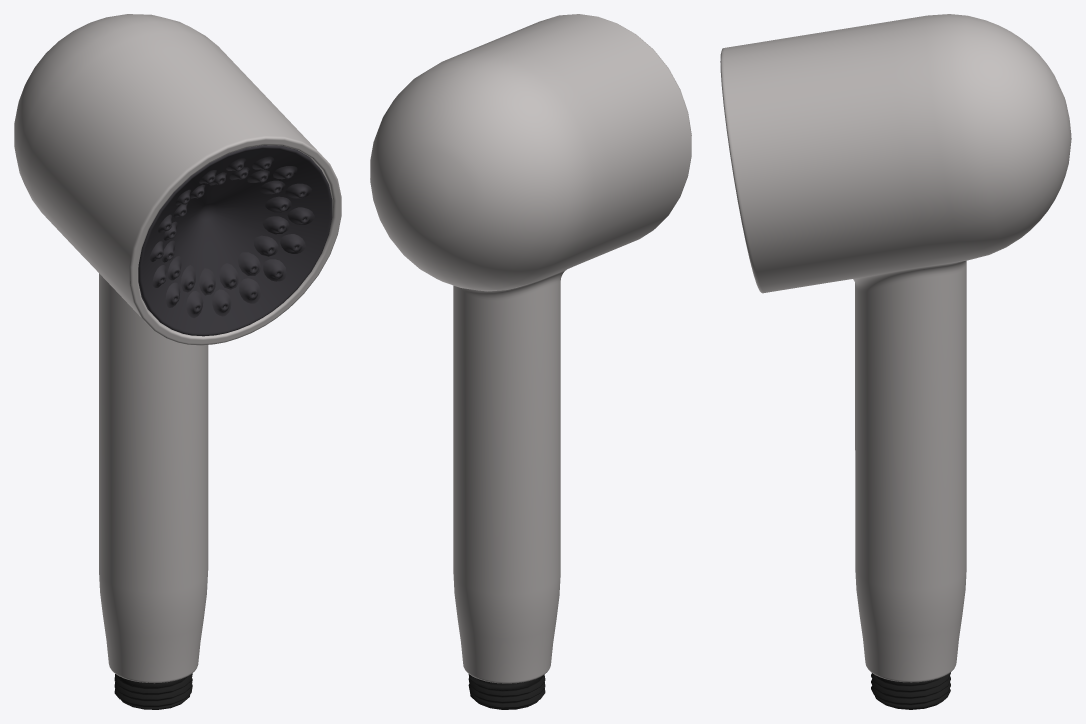
File: 26286_0_alpha_02.glb
The picture shows the model from 3 angles, left to right: view 1: azimuth 30°, elevation 25°; view 2: azimuth 150°, elevation 25°; view 3: azimuth 270°, elevation 25°; orthographic projection. The views are drawn at different scales.
Parts seen in each view (by area): view 1: 26286; view 2: 26286; view 3: 26286.
Boxes of the visible parts, x1=… form: 26286: x1=14, y1=14, x2=341, y2=709; 26286: x1=370, y1=14, x2=691, y2=709; 26286: x1=720, y1=14, x2=1071, y2=709.
Size of the model in its own units: 2.54 by 7.55 by 3.58.
Materials: 1 (1 with a texture image).
